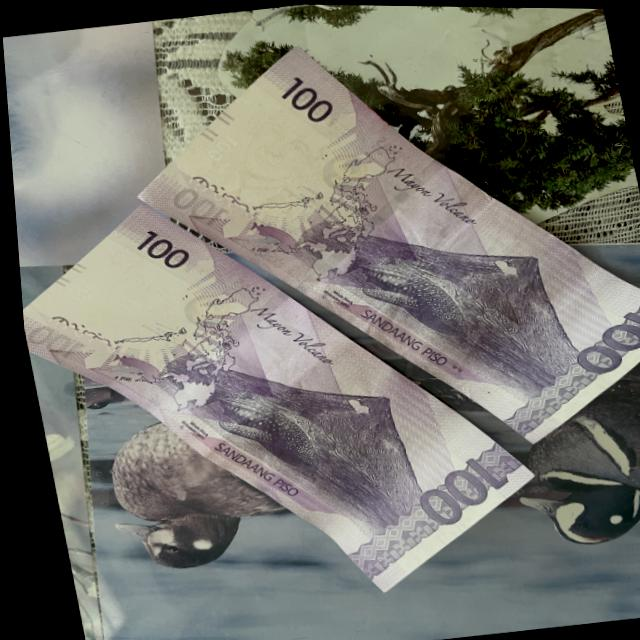100_whale: (333, 228, 473, 352), (189, 368, 322, 478)
100_whale_watermark: (95, 336, 174, 406), (237, 206, 308, 264)
value_watermark: (193, 125, 251, 170)
watermark: (180, 93, 380, 222), (39, 244, 216, 355)
